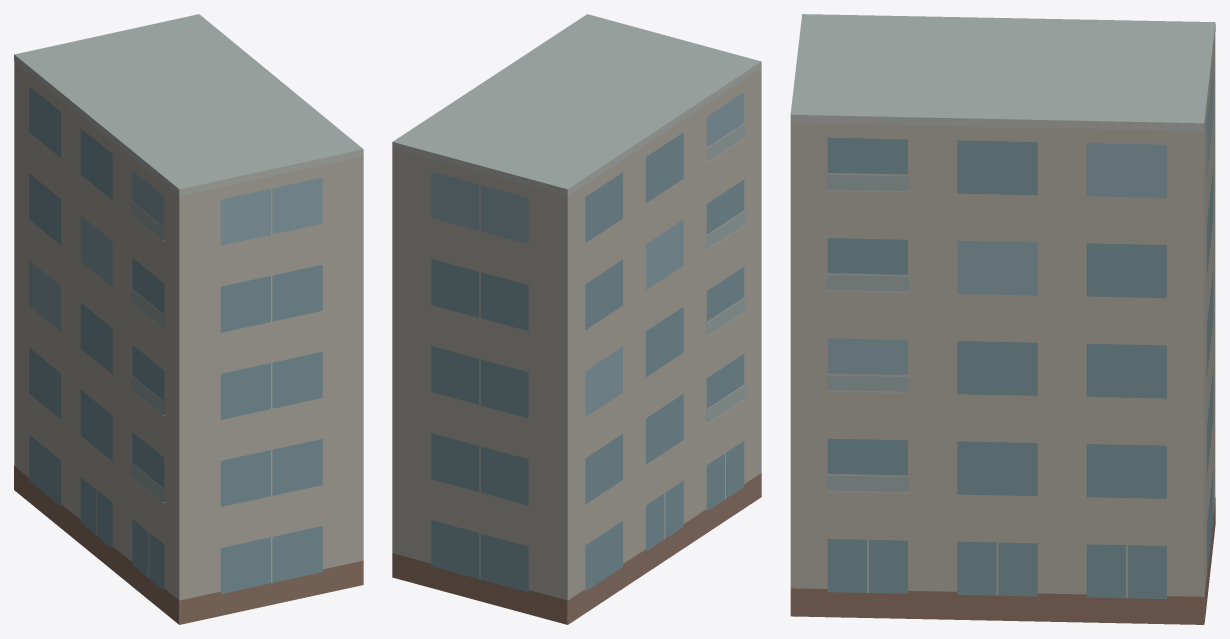
The model's file is survey-upis-32576279.glb.
3 views of the same model, side by side, from view 1: azimuth 30°, elevation 25°; view 2: azimuth 150°, elevation 25°; view 3: azimuth 270°, elevation 25° (orthographic). The views are drawn at different scales.
Parts seen in each view (by area): view 1: survey-upis-32576279.tmp; view 2: survey-upis-32576279.tmp; view 3: survey-upis-32576279.tmp.
Boxes of the visible parts, bbox=[...] form: survey-upis-32576279.tmp: bbox=[14, 14, 363, 624]; survey-upis-32576279.tmp: bbox=[392, 14, 761, 624]; survey-upis-32576279.tmp: bbox=[790, 14, 1215, 624].
Bounding box in the file's own units: 7.14 × 15.25 × 11.72.
